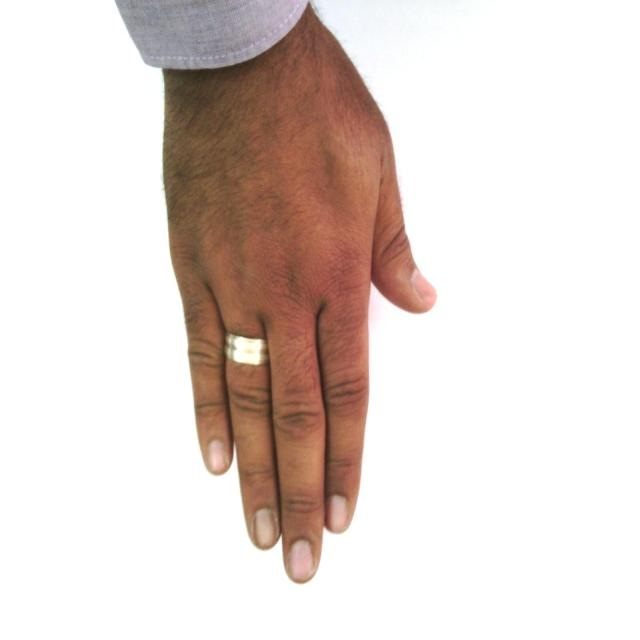hand: (149, 93, 437, 587)
